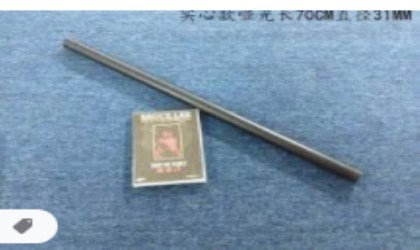baston_e: (75, 40, 341, 178)
baston_v: (341, 158, 367, 185), (54, 34, 79, 53)
